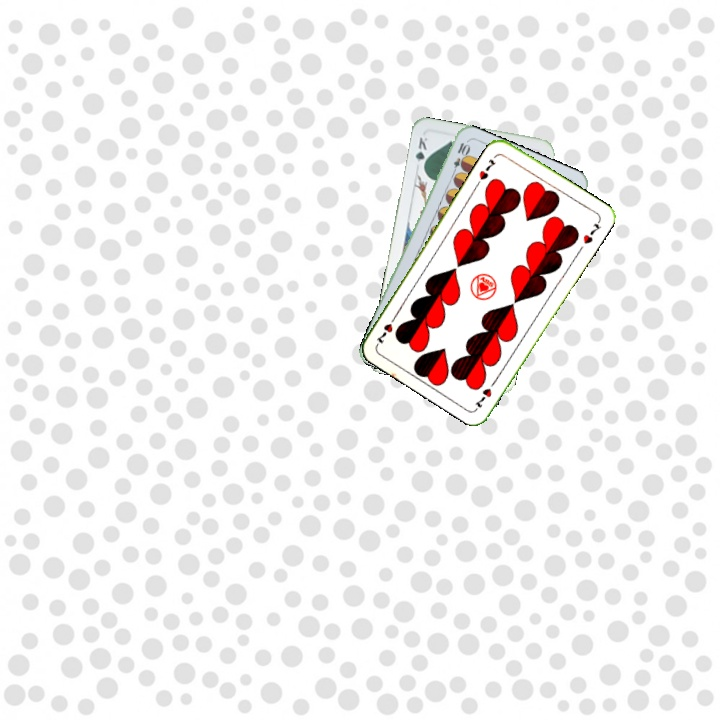E10: (448, 138, 471, 178)
GK: (411, 133, 430, 173)
H7: (470, 375, 500, 411), (475, 155, 498, 183)
